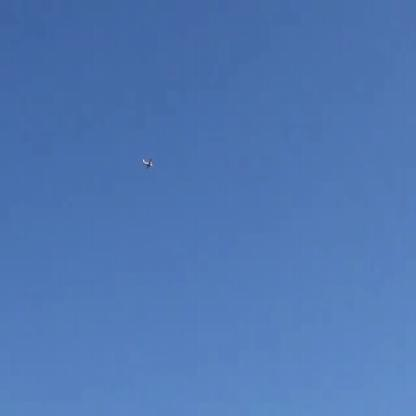CIV_Plane: (142, 158, 154, 168)
